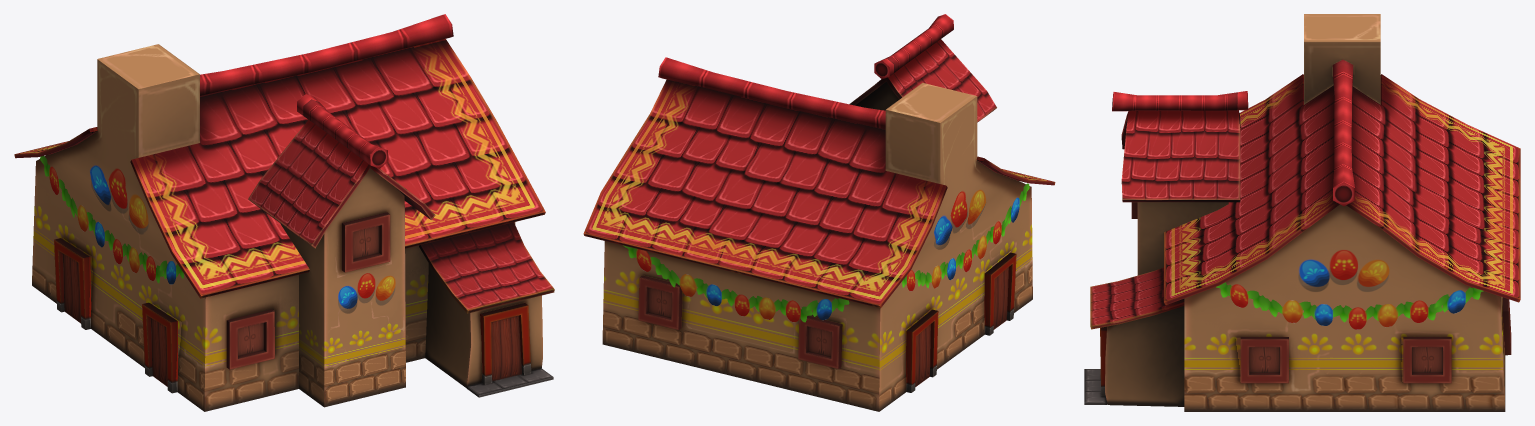
File: House_07_F.FBX
3 views of the same model, side by side, from view 1: azimuth 30°, elevation 25°; view 2: azimuth 150°, elevation 25°; view 3: azimuth 270°, elevation 25° (orthographic). The views are drawn at different scales.
Parts seen in each view (by area): view 1: House_07, Egg_Rope_House_07; view 2: House_07, Egg_Rope_House_07; view 3: House_07, Egg_Rope_House_07.
Part boxes in pixels (bbox=[...]): House_07: bbox=[14, 14, 554, 411]; Egg_Rope_House_07: bbox=[40, 156, 183, 284]; House_07: bbox=[583, 14, 1055, 411]; Egg_Rope_House_07: bbox=[623, 183, 1029, 322]; House_07: bbox=[1084, 14, 1520, 411]; Egg_Rope_House_07: bbox=[1216, 282, 1483, 329].
Size of the model in its own units: 204 by 154 by 237.
